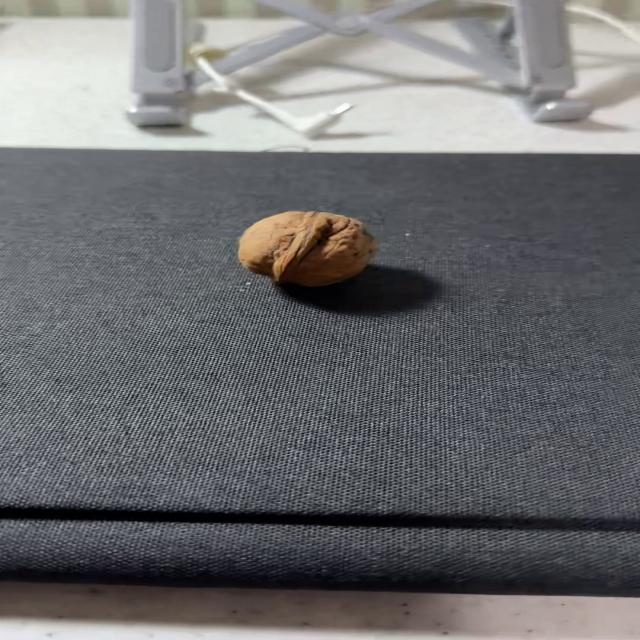nuts-good: (238, 211, 376, 287)
